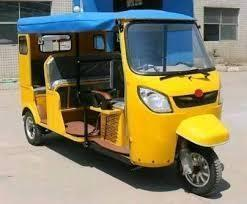keke: (14, 8, 234, 200)
